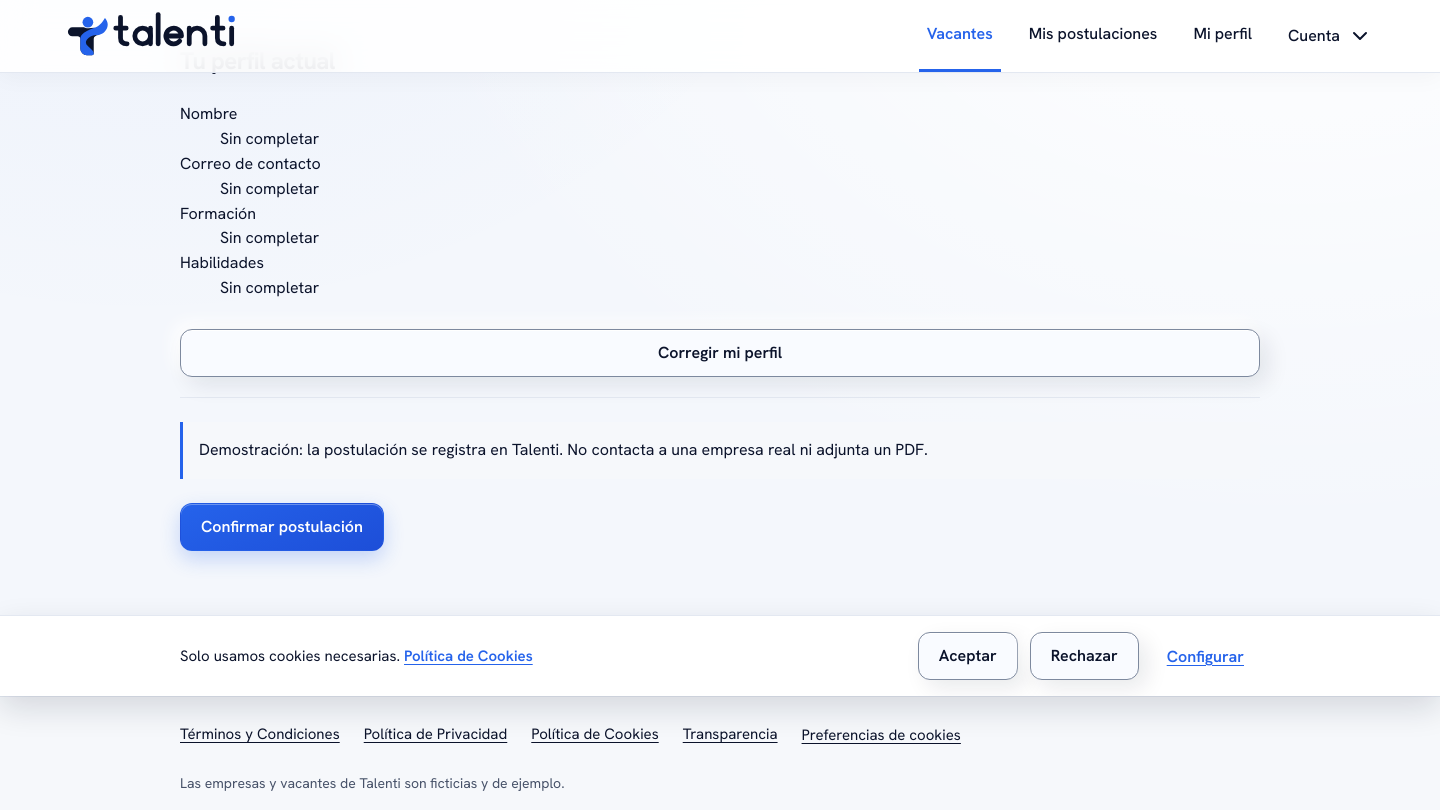
Test: Review before applying (008-14 to 008-17, redesign E5) › 008-17: a duplicate conflict is explained without claiming a new submission
The width and height of the screenshot is (1440, 810).
(page scrolled)
Click the button "Confirmar postulación" at (282, 527), box [180,503,384,551]
(page scrolled)
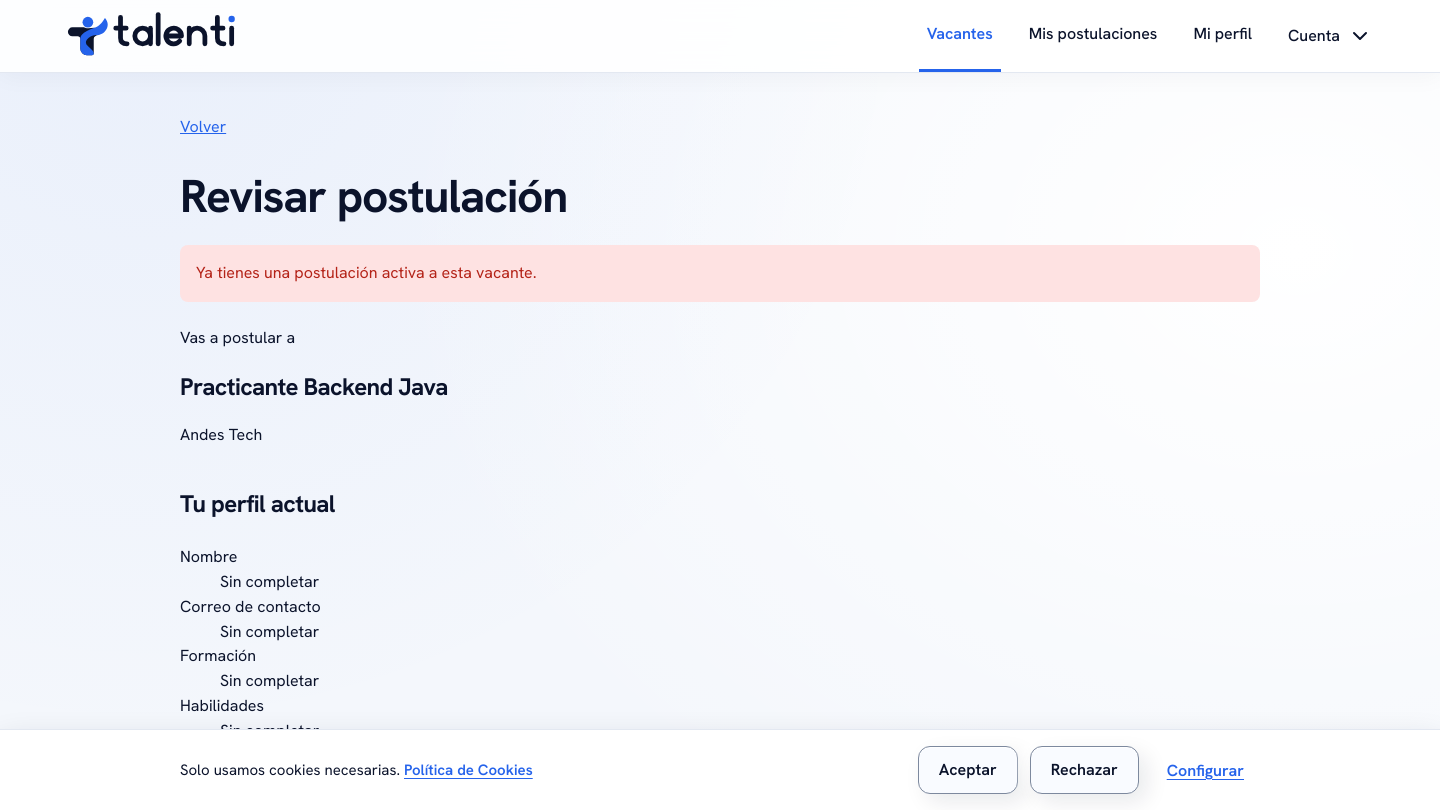
Now the message reads "Ya tienes una postulación activa a esta vacante.", box [196,262,536,283]
